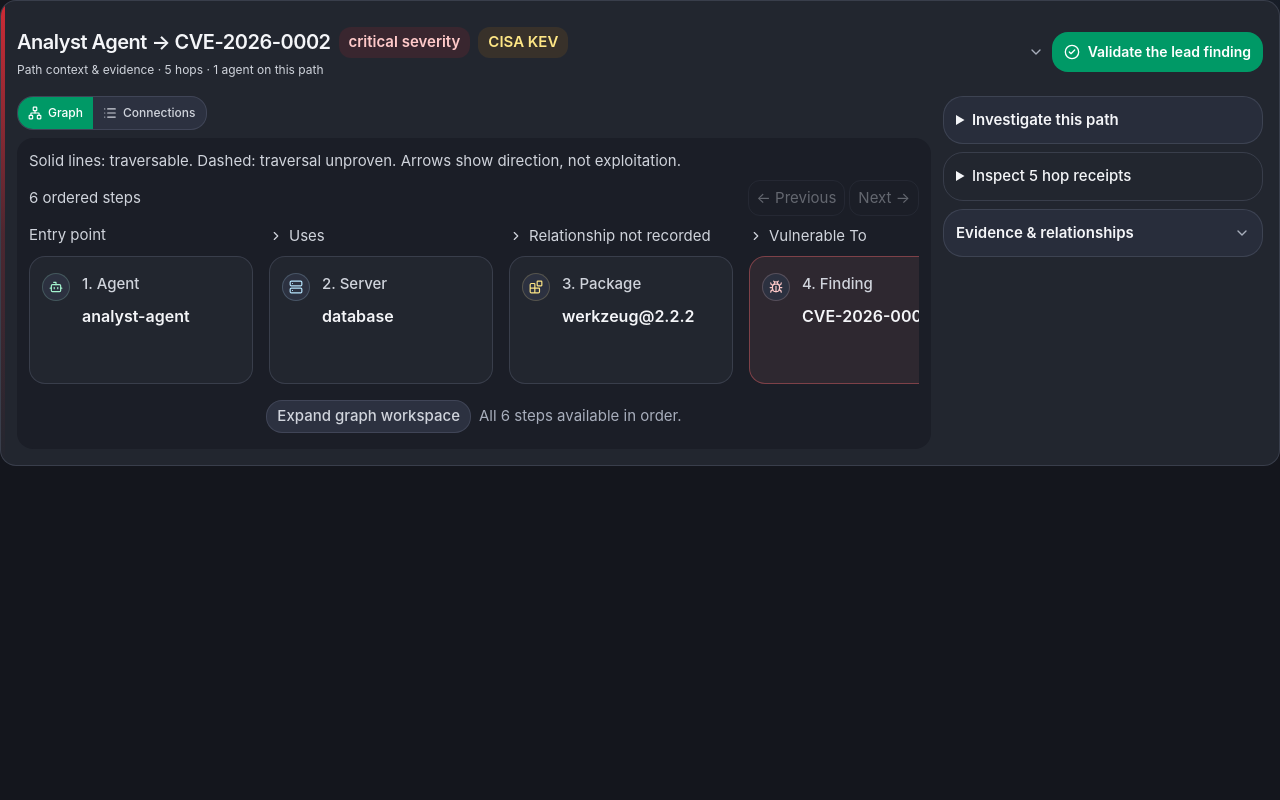
ExposurePathCommandCenter › renders a compact path header with collapsed evidence by default
The image size is (1280, 800).
Expected: the heading "Analyst Agent → CVE-2026-0002" is shown, [17,30,330,55]
Expected: the text "Path context & evidence · 5 hops · 1 agent on this path" is shown, [17,62,324,76]
Click the heading "Evidence & relationships". click: x=1103, y=232
box: [956,222,1250,242]
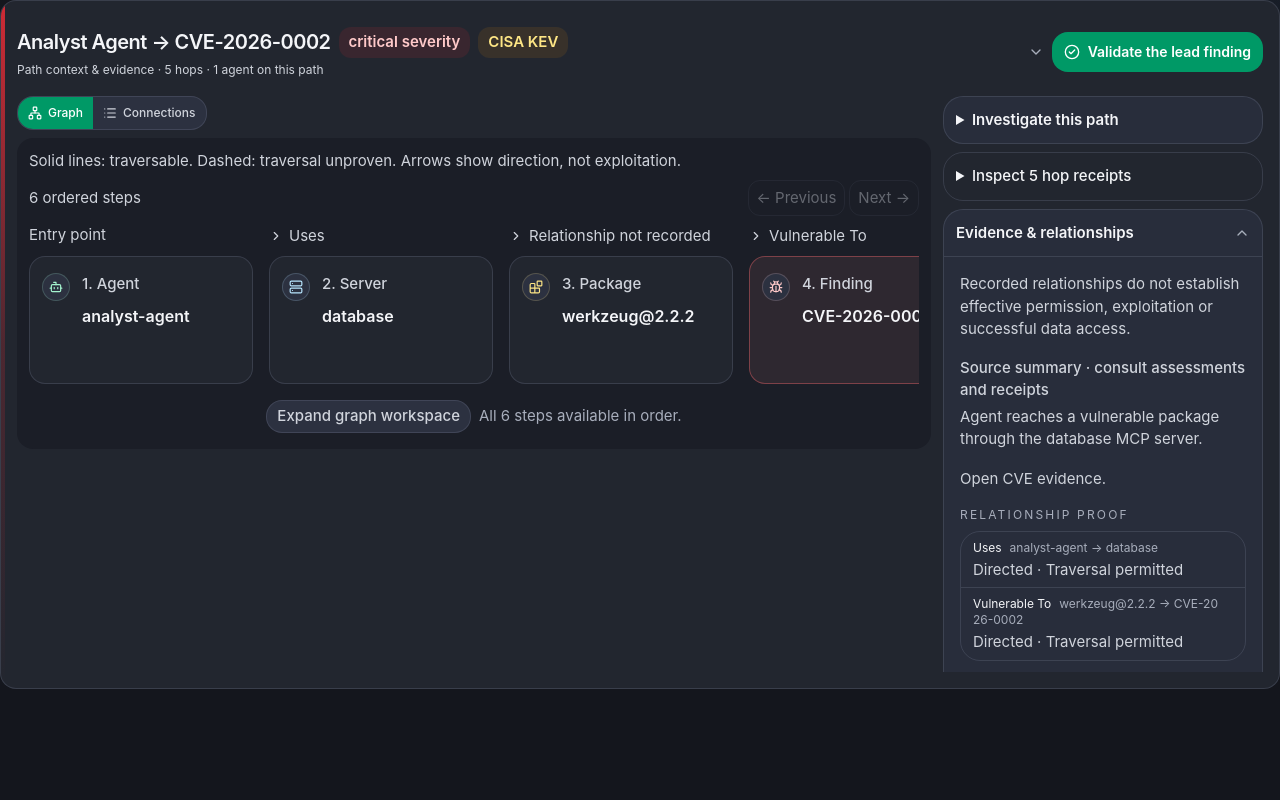
Result: the text "Open CVE evidence." is shown at [960,468,1106,488]
